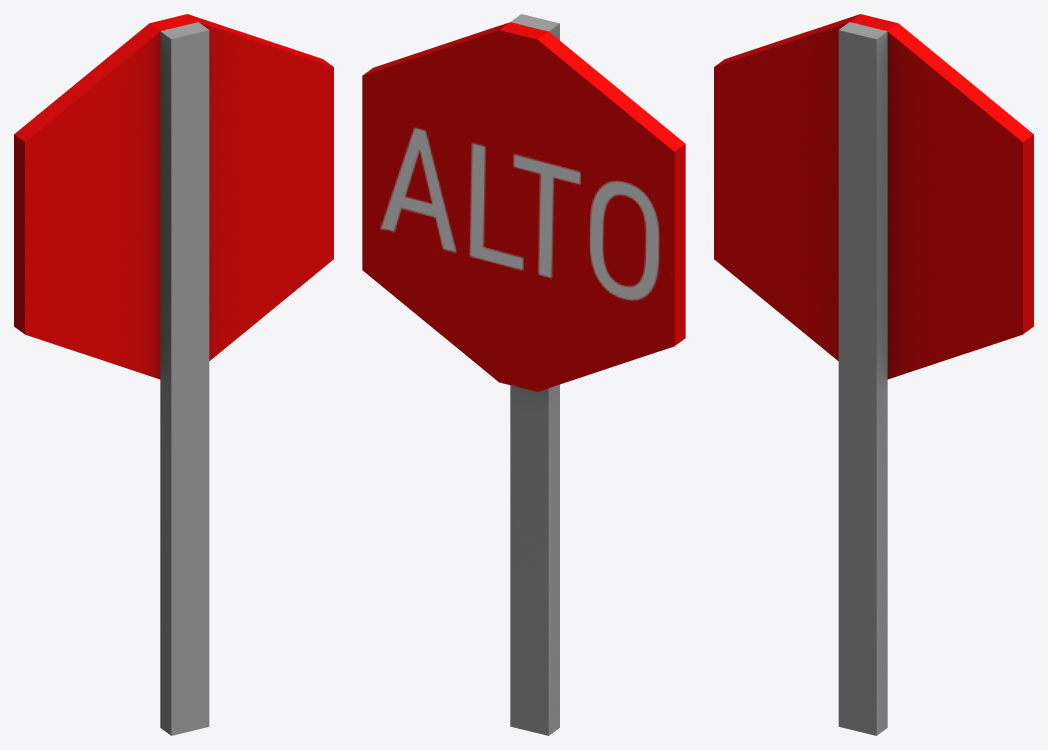
The model's file is stopsign.glb.
3 views of the same model, side by side, from view 1: azimuth 30°, elevation 25°; view 2: azimuth 150°, elevation 25°; view 3: azimuth 330°, elevation 25° (orthographic).
Visible parts, largest first — view 1: Cube; view 2: Cube; view 3: Cube.
Part boxes in pixels (box(x1,y1,x2,y2)): Cube: box(14, 14, 333, 735); Cube: box(362, 14, 685, 735); Cube: box(714, 14, 1033, 735).
Bounding box in the file's own units: 3.25 × 7 × 0.4.
1 material, 1 textured.
